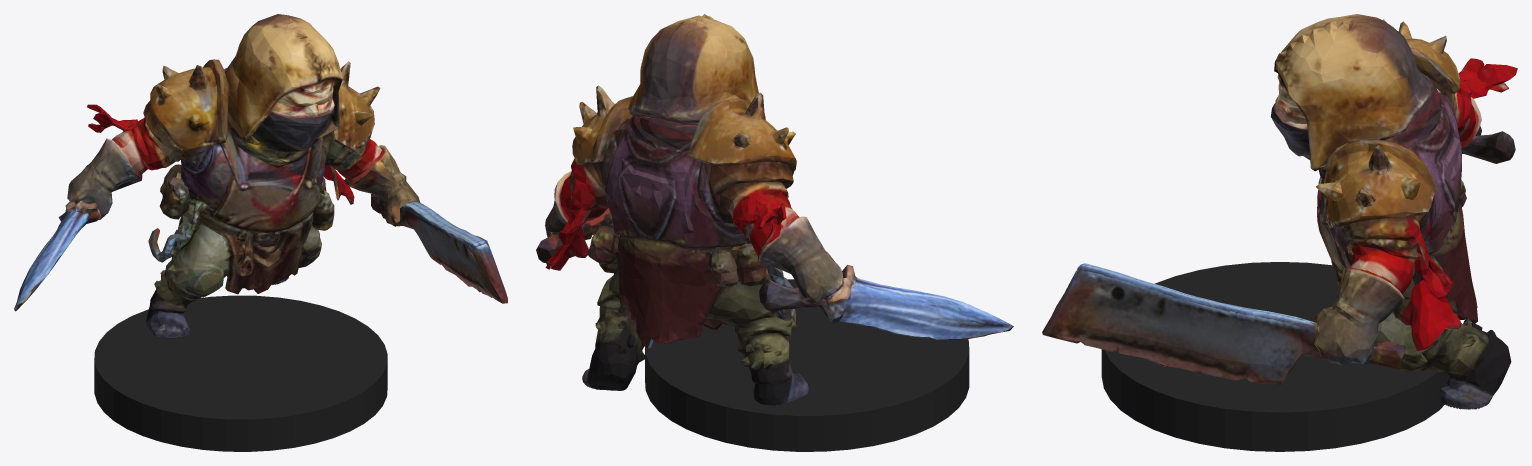
The model's file is bl-butcher.glb.
3 views of the same model, side by side, from view 1: azimuth 30°, elevation 25°; view 2: azimuth 150°, elevation 25°; view 3: azimuth 270°, elevation 25° (orthographic). The views are drawn at different scales.
Visible parts, largest first — view 1: figure, base; view 2: figure, base; view 3: figure, base.
Boxes of the visible parts, bbox=[...] form: figure: bbox=[14, 14, 507, 338]; base: bbox=[94, 295, 387, 451]; figure: bbox=[536, 14, 1013, 405]; base: bbox=[645, 279, 969, 451]; figure: bbox=[1042, 14, 1517, 409]; base: bbox=[1101, 262, 1449, 451].
Size of the model in its own units: 1.59 by 1.22 by 1.31.
Materials: 2 (1 with a texture image).
